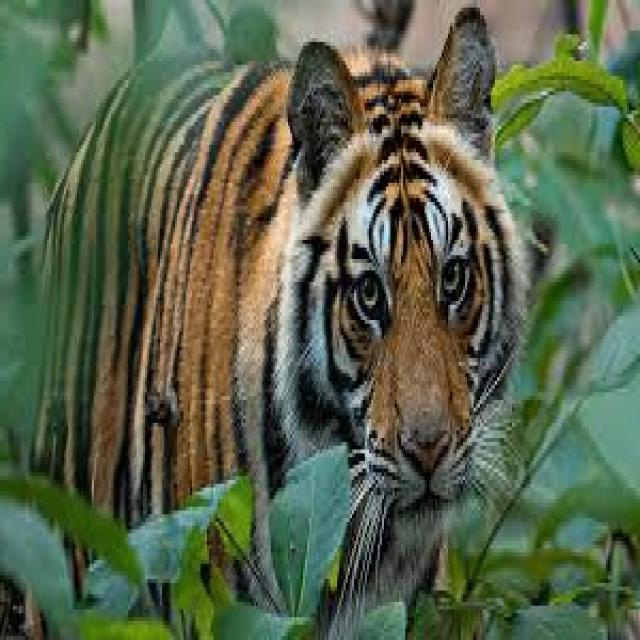tiger: (36, 8, 553, 636)
